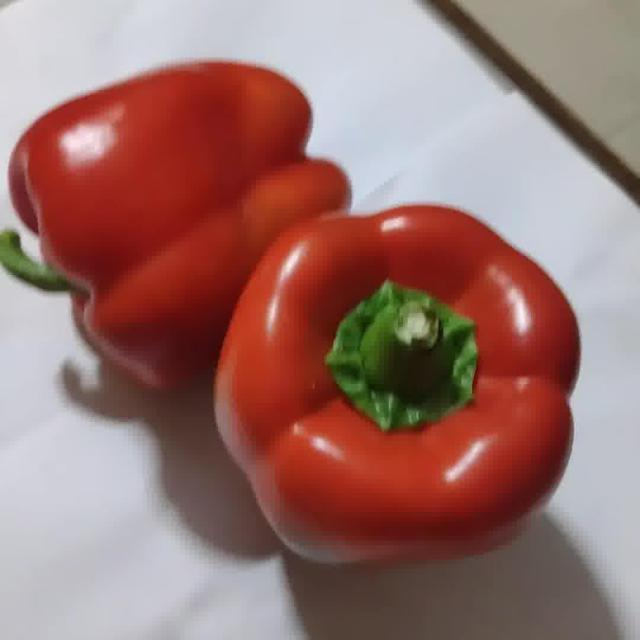Bell Pepper: (215, 205, 578, 561), (9, 62, 350, 386)
